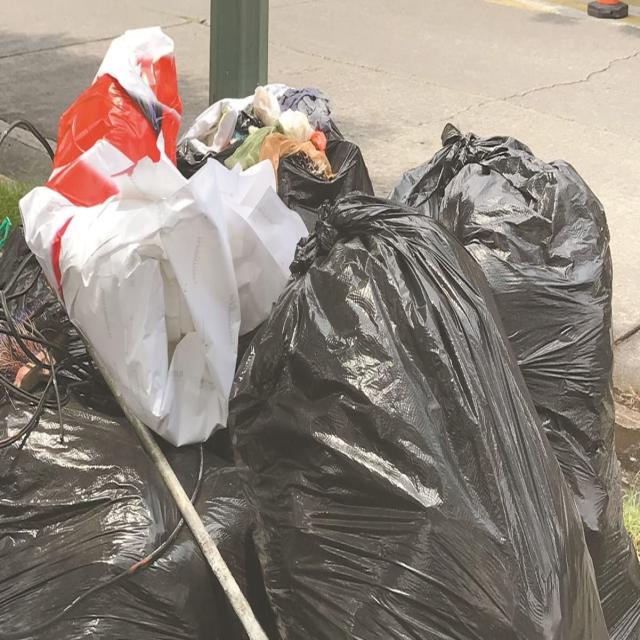garbage: (0, 85, 639, 640)
